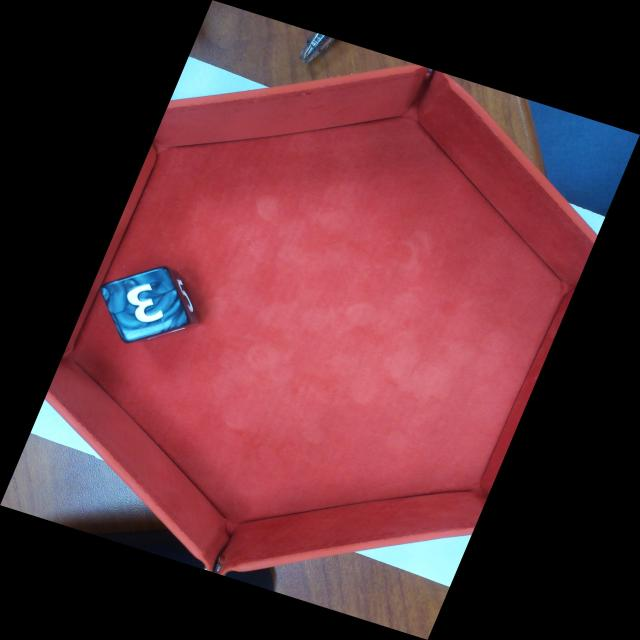dice: (100, 268, 189, 341)
